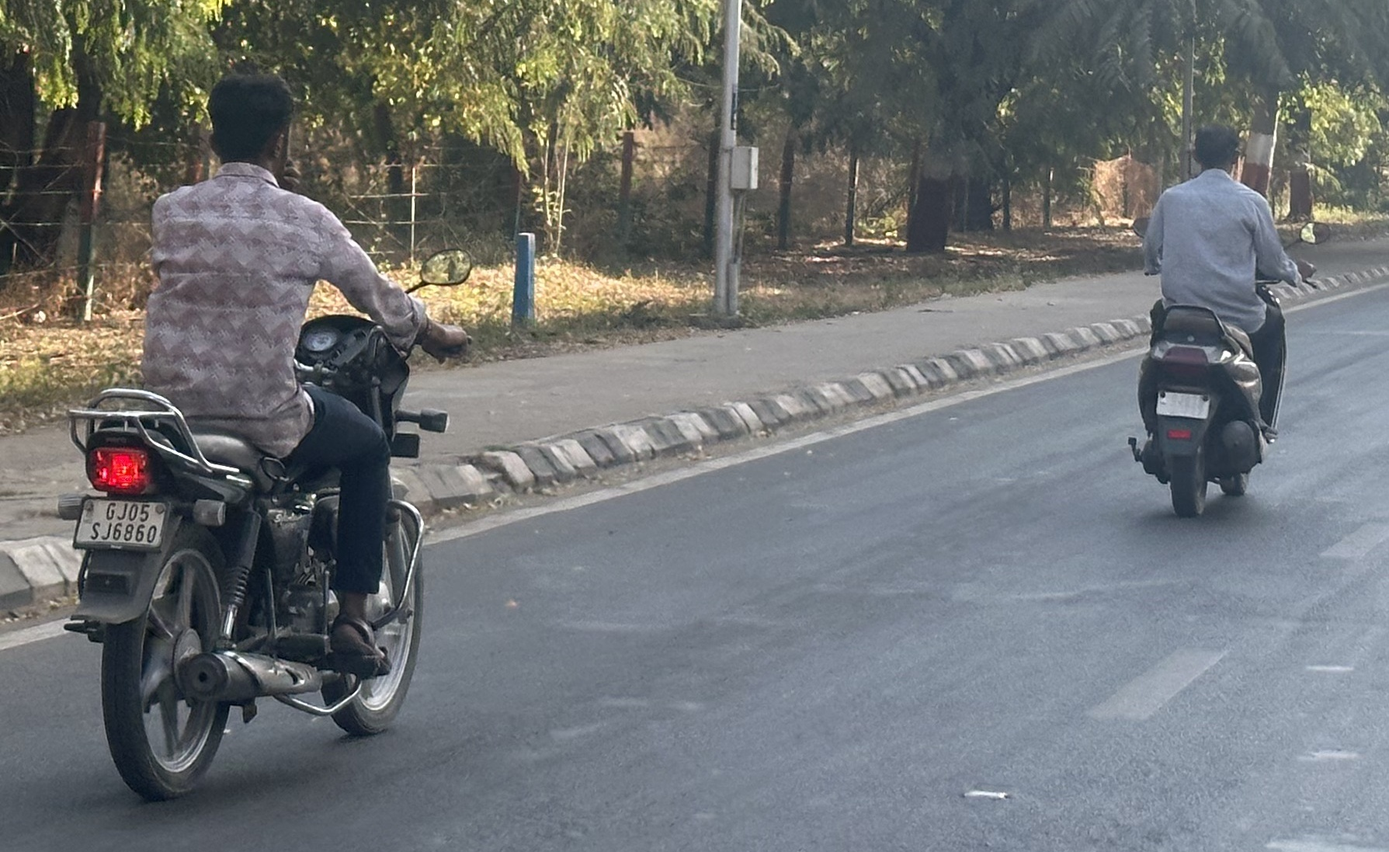BikeWithRider: (39, 59, 484, 816), (1113, 113, 1324, 527)
NoHelmet: (194, 63, 307, 183), (1185, 117, 1249, 185)
